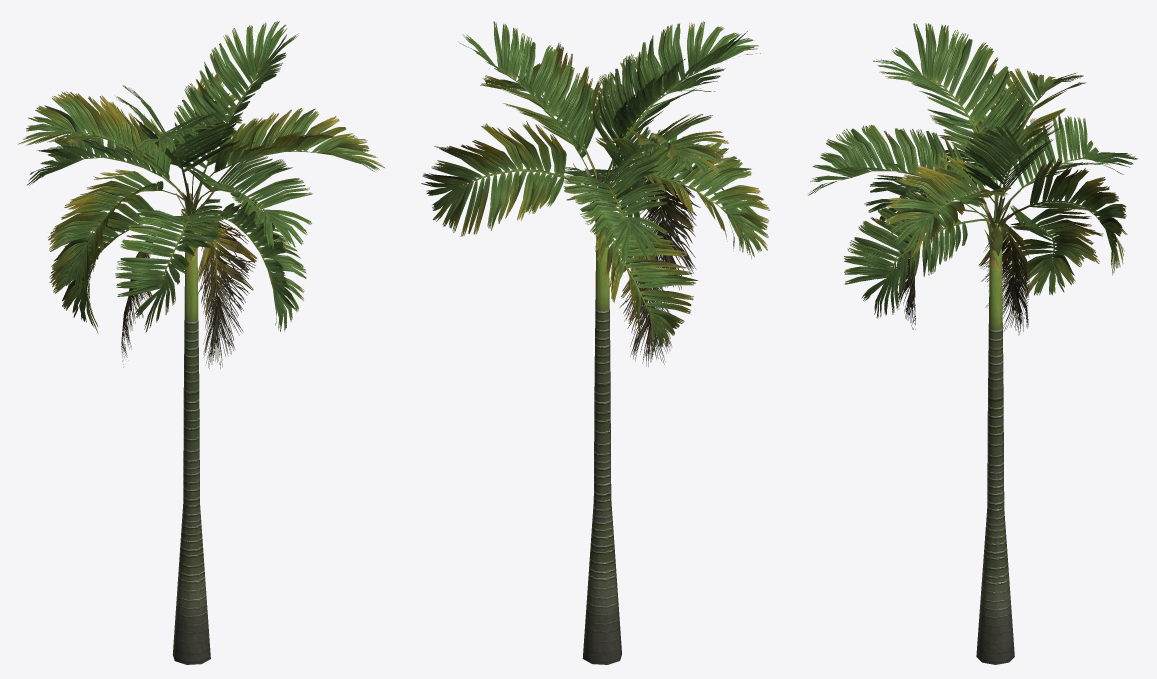
File: MK4_ArecaPalm4.DAE
The picture shows the model from 3 angles, left to right: view 1: azimuth 30°, elevation 25°; view 2: azimuth 150°, elevation 25°; view 3: azimuth 270°, elevation 25°; orthographic projection. The views are drawn at different scales.
Visible parts, largest first — view 1: MK4_ArecaPalm4; view 2: MK4_ArecaPalm4; view 3: MK4_ArecaPalm4.
Part boxes in pixels (x1,y1,x2,y2): MK4_ArecaPalm4: [18, 21, 384, 664]; MK4_ArecaPalm4: [421, 21, 769, 664]; MK4_ArecaPalm4: [808, 23, 1138, 664].
Size of what is drawn, in the model's own units: 8.06 by 7.89 by 15.27.
